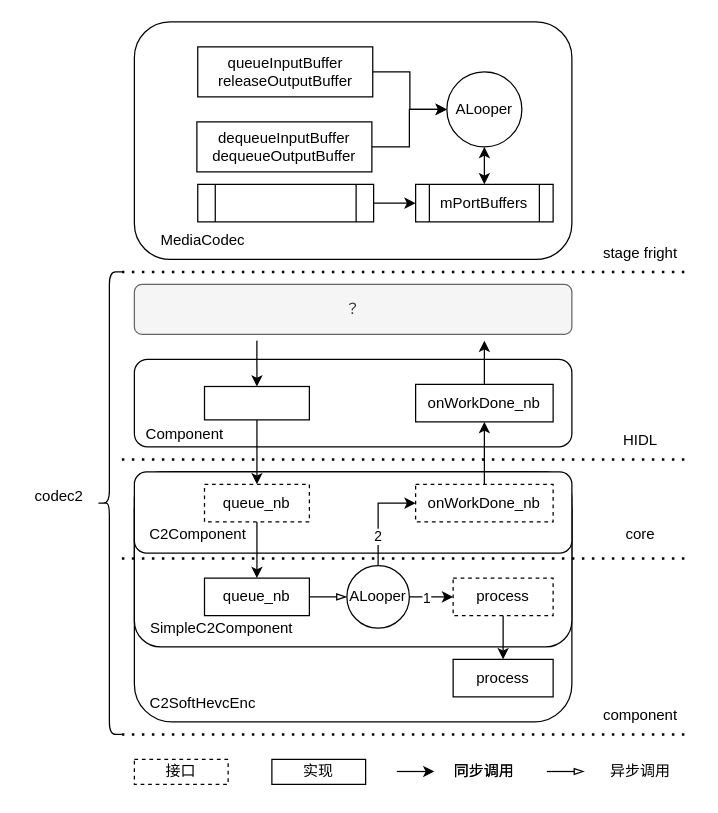
This 718x813 diagram has some shape labels left out. Each missing label, with the centre of its shape:
"mAvailPortBuffers" goes at point (285, 202).
"queue" goes at point (256, 402).
